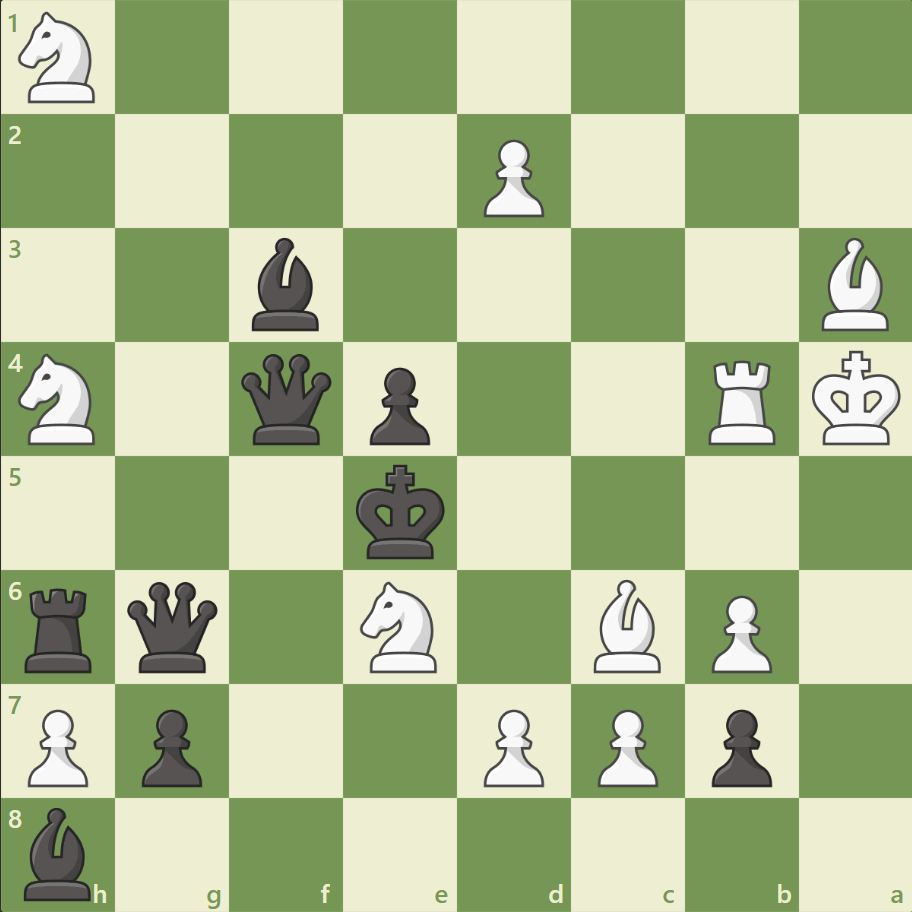B: (812, 233, 896, 336), (585, 574, 669, 676)
K: (806, 344, 906, 452)
N: (351, 575, 449, 677), (11, 7, 108, 110), (11, 348, 108, 450)
P: (474, 700, 549, 791), (20, 700, 95, 791), (701, 586, 776, 677), (474, 132, 549, 223), (588, 700, 662, 791)
R: (700, 352, 783, 449)
b: (17, 801, 101, 904), (244, 233, 328, 336)
k: (351, 458, 451, 566)
p: (701, 700, 776, 791), (133, 700, 208, 791), (361, 359, 435, 450)
q: (124, 576, 223, 676), (237, 349, 336, 449)
r: (19, 579, 102, 676)
